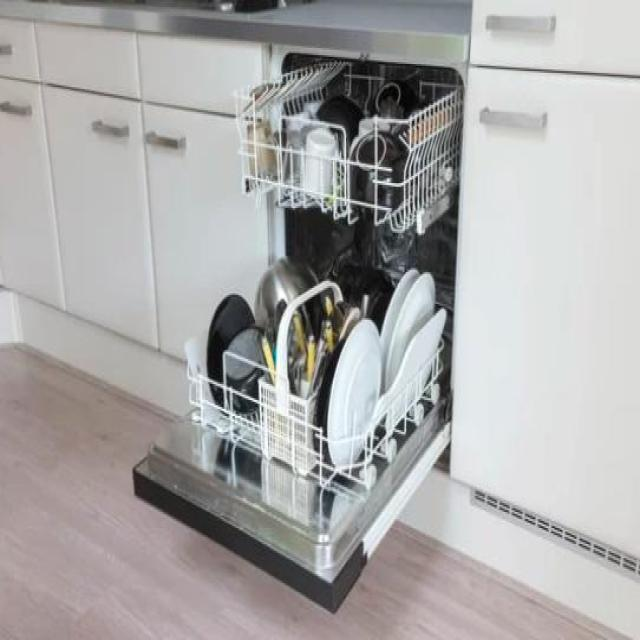dishwasher: (131, 45, 468, 615)
